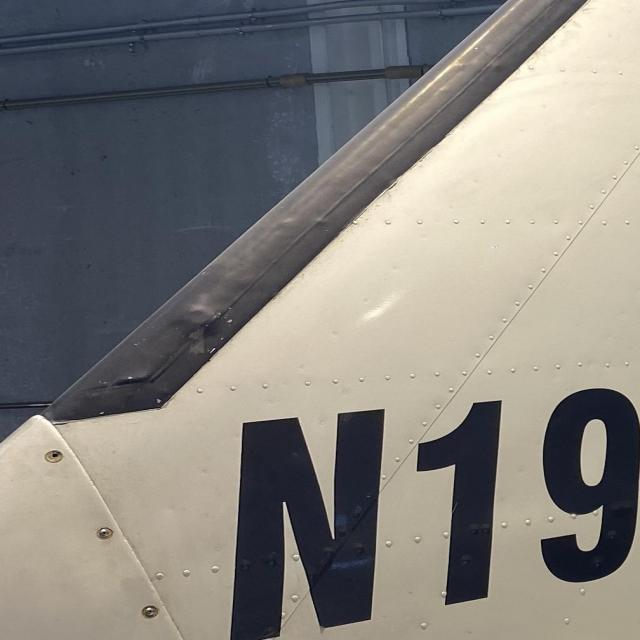Crack: (48, 421, 72, 427)
Missing-head: (46, 449, 65, 464)
